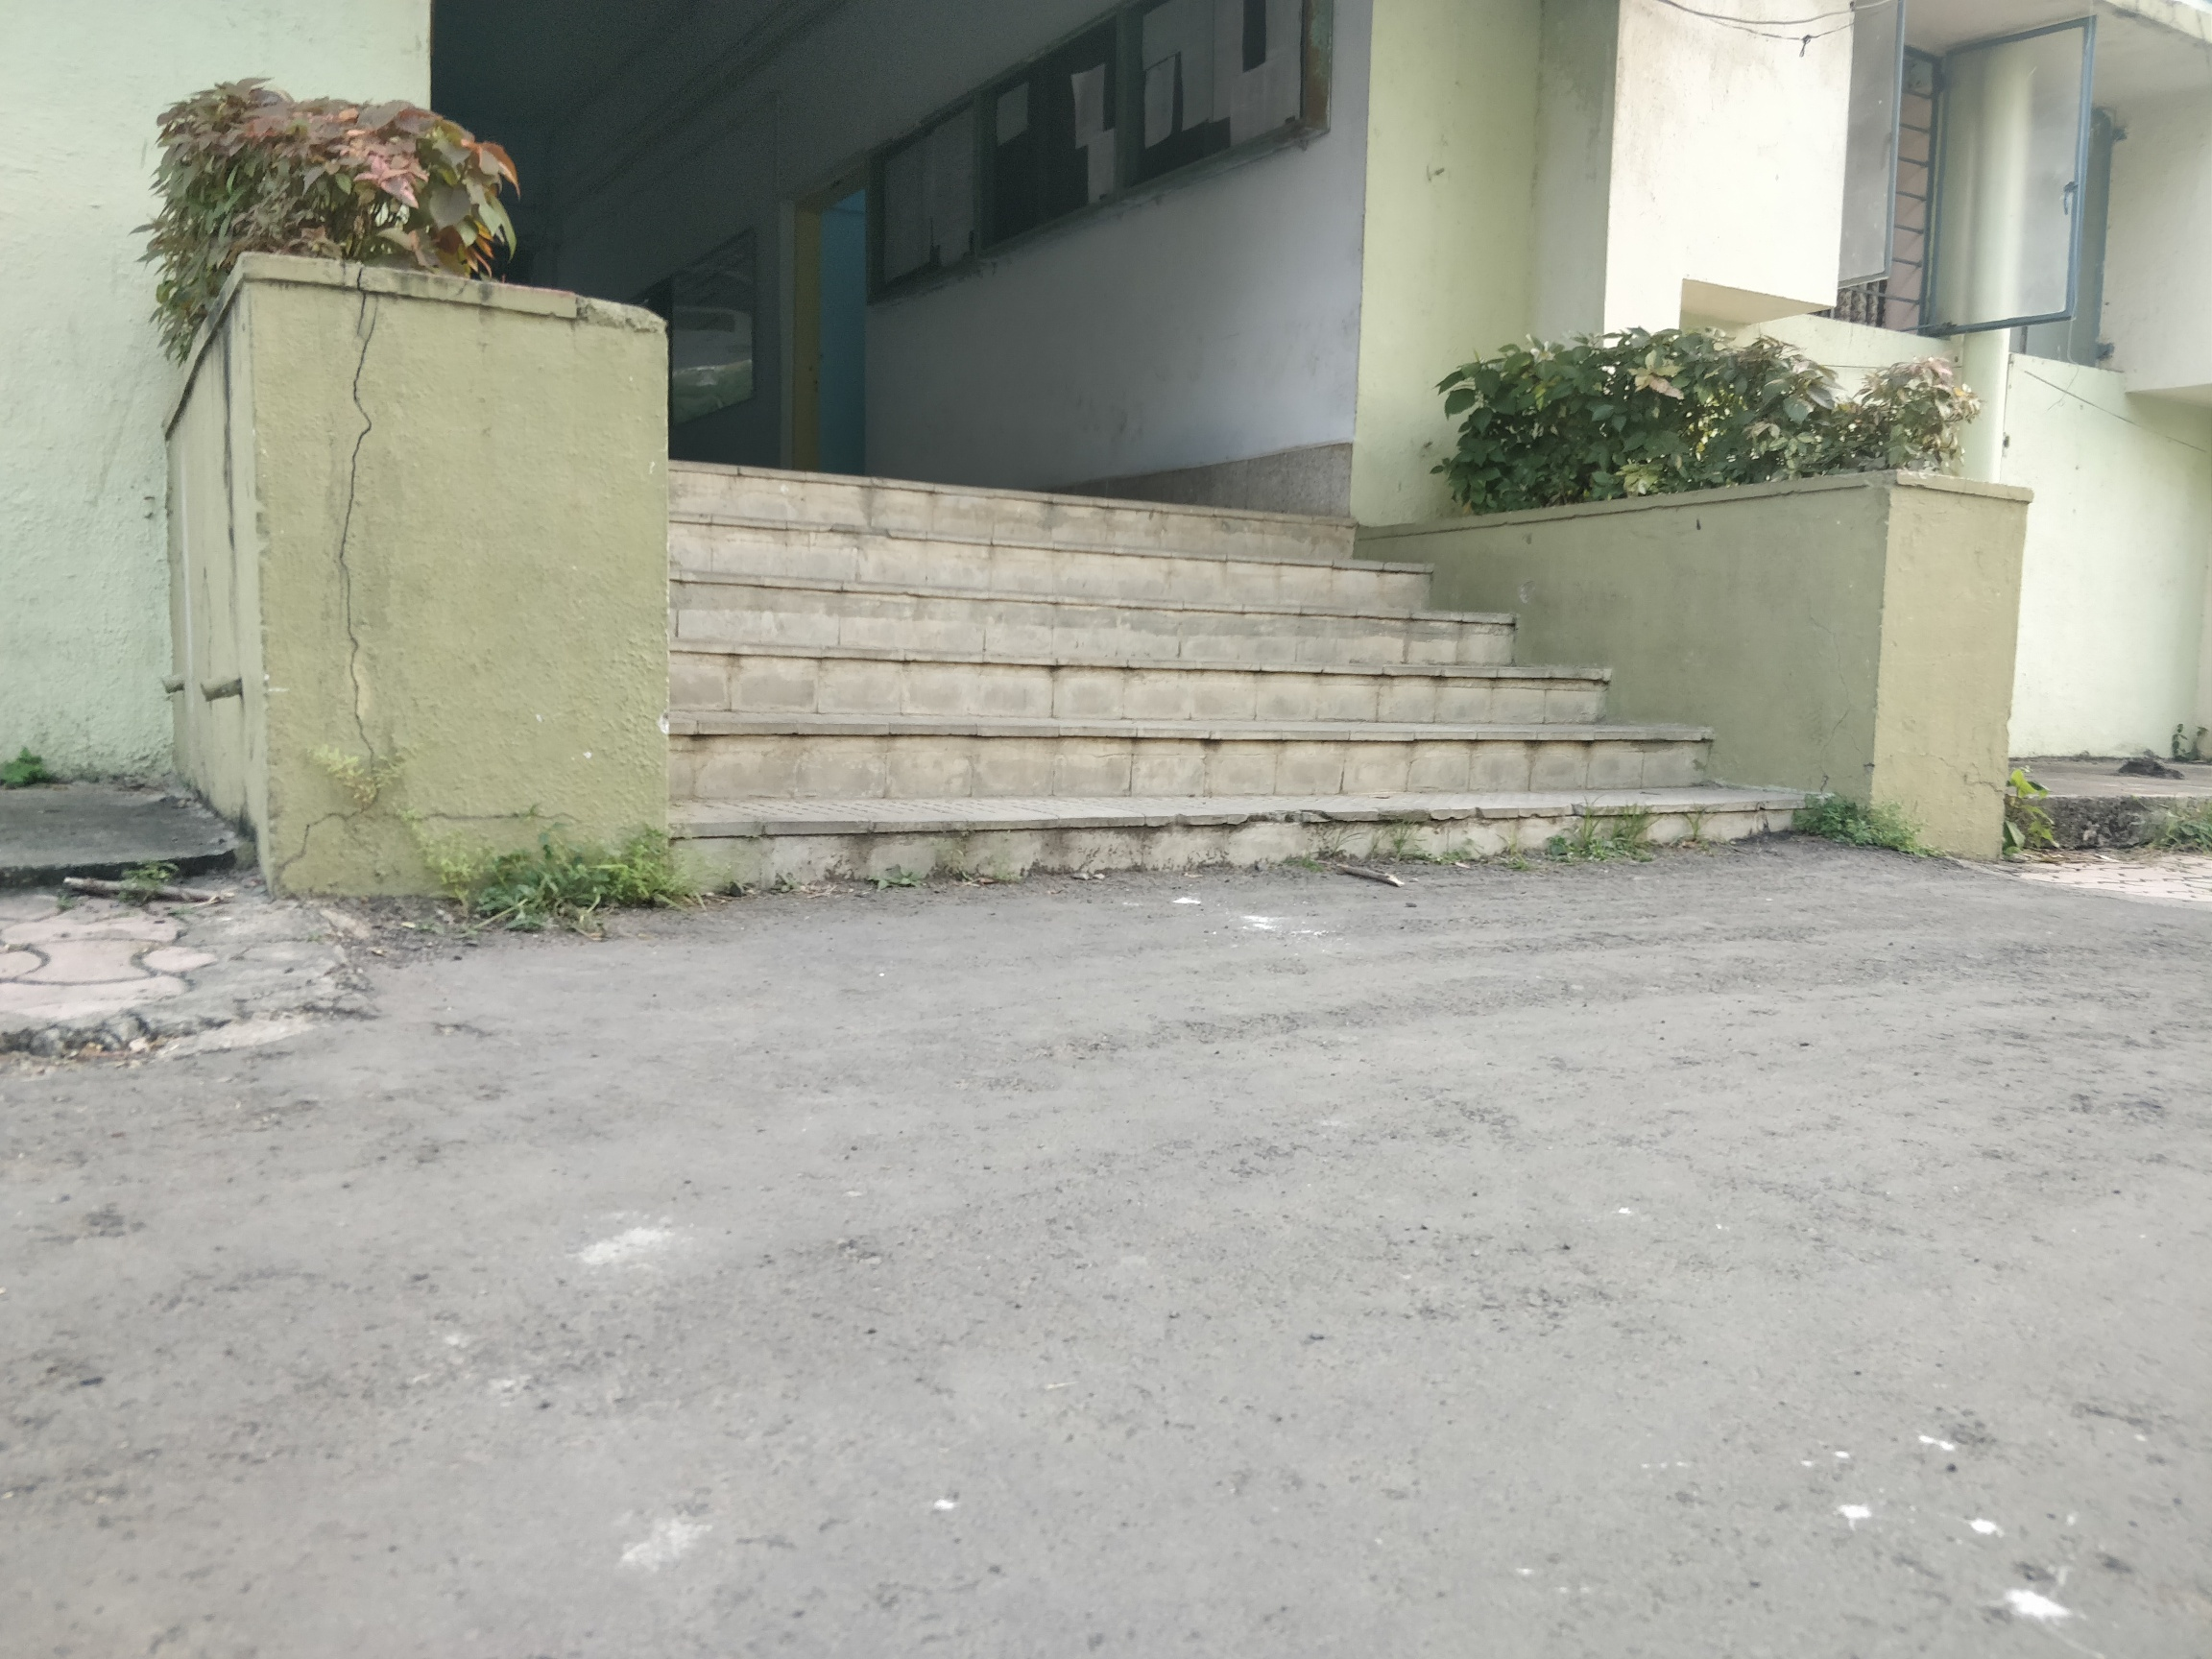stairs_up: (676, 444, 1824, 866)
